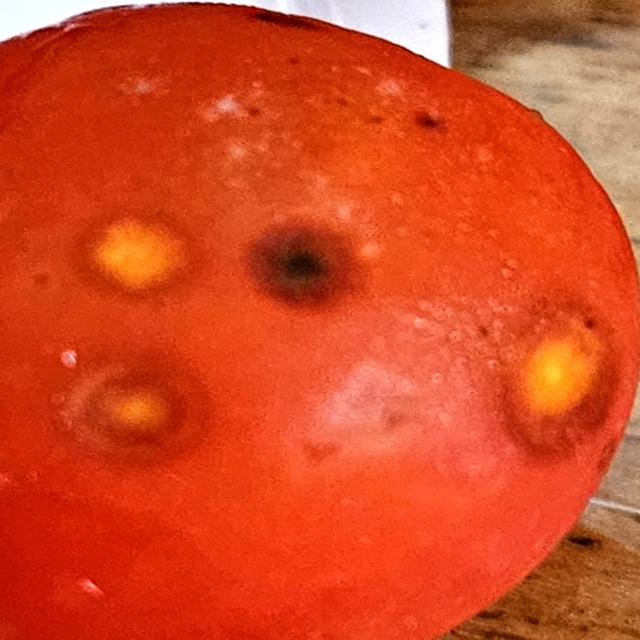rot_lvl1: (45, 349, 219, 475), (496, 296, 630, 457), (72, 200, 216, 311)
rot_lvl2: (249, 216, 357, 309)
